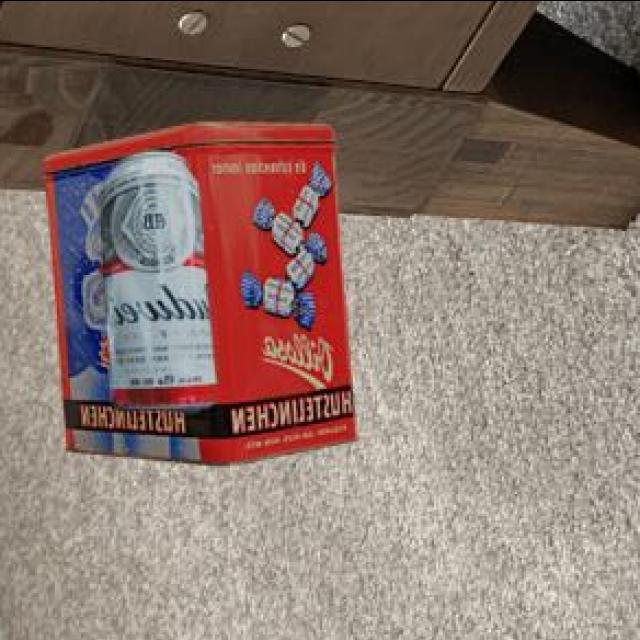logam: (41, 119, 356, 461), (95, 150, 214, 409)
